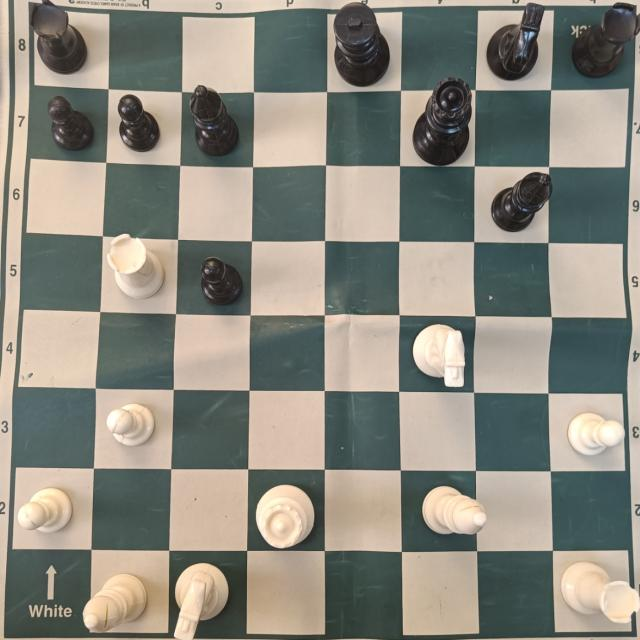black-bishop: (190, 84, 243, 161), (491, 174, 555, 229)
black-king: (332, 1, 394, 84)
black-knight: (490, 2, 546, 79)
black-pawn: (49, 97, 97, 151), (120, 97, 160, 150), (200, 260, 244, 303)
black-queen: (414, 82, 471, 165)
black-rook: (573, 3, 639, 80), (32, 2, 90, 73)
white-bishop: (83, 571, 147, 632), (426, 483, 485, 539)
white-knight: (173, 563, 233, 640), (412, 320, 470, 389)
white-pawn: (567, 409, 625, 457), (21, 487, 72, 535), (105, 404, 156, 451)
white-queen: (254, 482, 316, 550)
white-rook: (563, 561, 639, 627), (108, 236, 168, 301)
